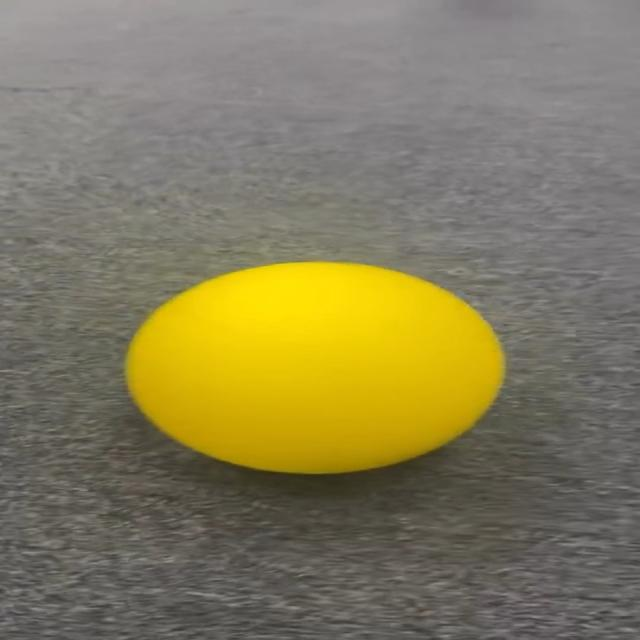Fuels: (124, 259, 500, 467)
